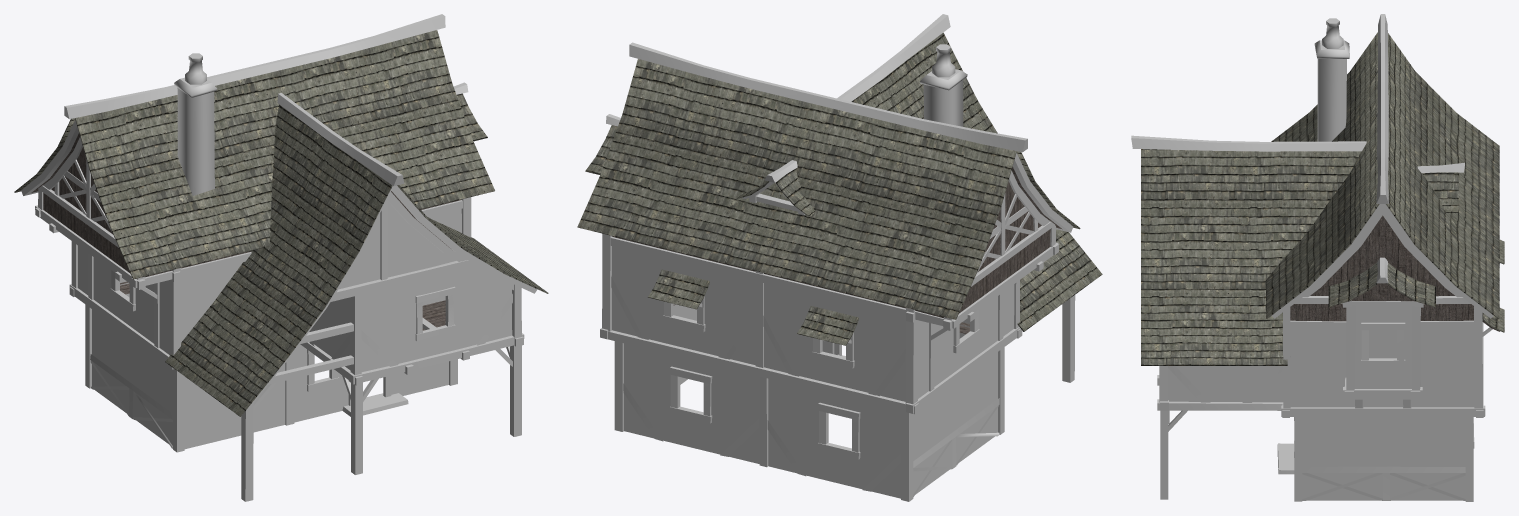
Rendered from mw_type_1_cottage_04_LOD1.FBX.
The picture shows the model from 3 angles, left to right: view 1: azimuth 30°, elevation 25°; view 2: azimuth 150°, elevation 25°; view 3: azimuth 270°, elevation 25°; orthographic projection. The views are drawn at different scales.
Parts seen in each view (by area): view 1: mw_type_1_cottage_04_roof, mw_type_1_cottage_04_wood, mw_type_1_cottage_04_stone; view 2: mw_type_1_cottage_04_roof, mw_type_1_cottage_04_stone, mw_type_1_cottage_04_wood; view 3: mw_type_1_cottage_04_roof, mw_type_1_cottage_04_stone, mw_type_1_cottage_04_wood.
Part boxes in pixels (box(x1,y1,x2,y2)): mw_type_1_cottage_04_roof: box(14, 30, 548, 416); mw_type_1_cottage_04_wood: box(21, 14, 537, 501); mw_type_1_cottage_04_stone: box(78, 53, 512, 449); mw_type_1_cottage_04_roof: box(577, 32, 1102, 345); mw_type_1_cottage_04_stone: box(612, 44, 1014, 498); mw_type_1_cottage_04_wood: box(600, 14, 1075, 501); mw_type_1_cottage_04_roof: box(1141, 32, 1504, 365); mw_type_1_cottage_04_stone: box(1168, 18, 1474, 500); mw_type_1_cottage_04_wood: box(1131, 14, 1499, 501).
Size of what is drawn, in the model's own units: 1614 by 1436 by 1332.
